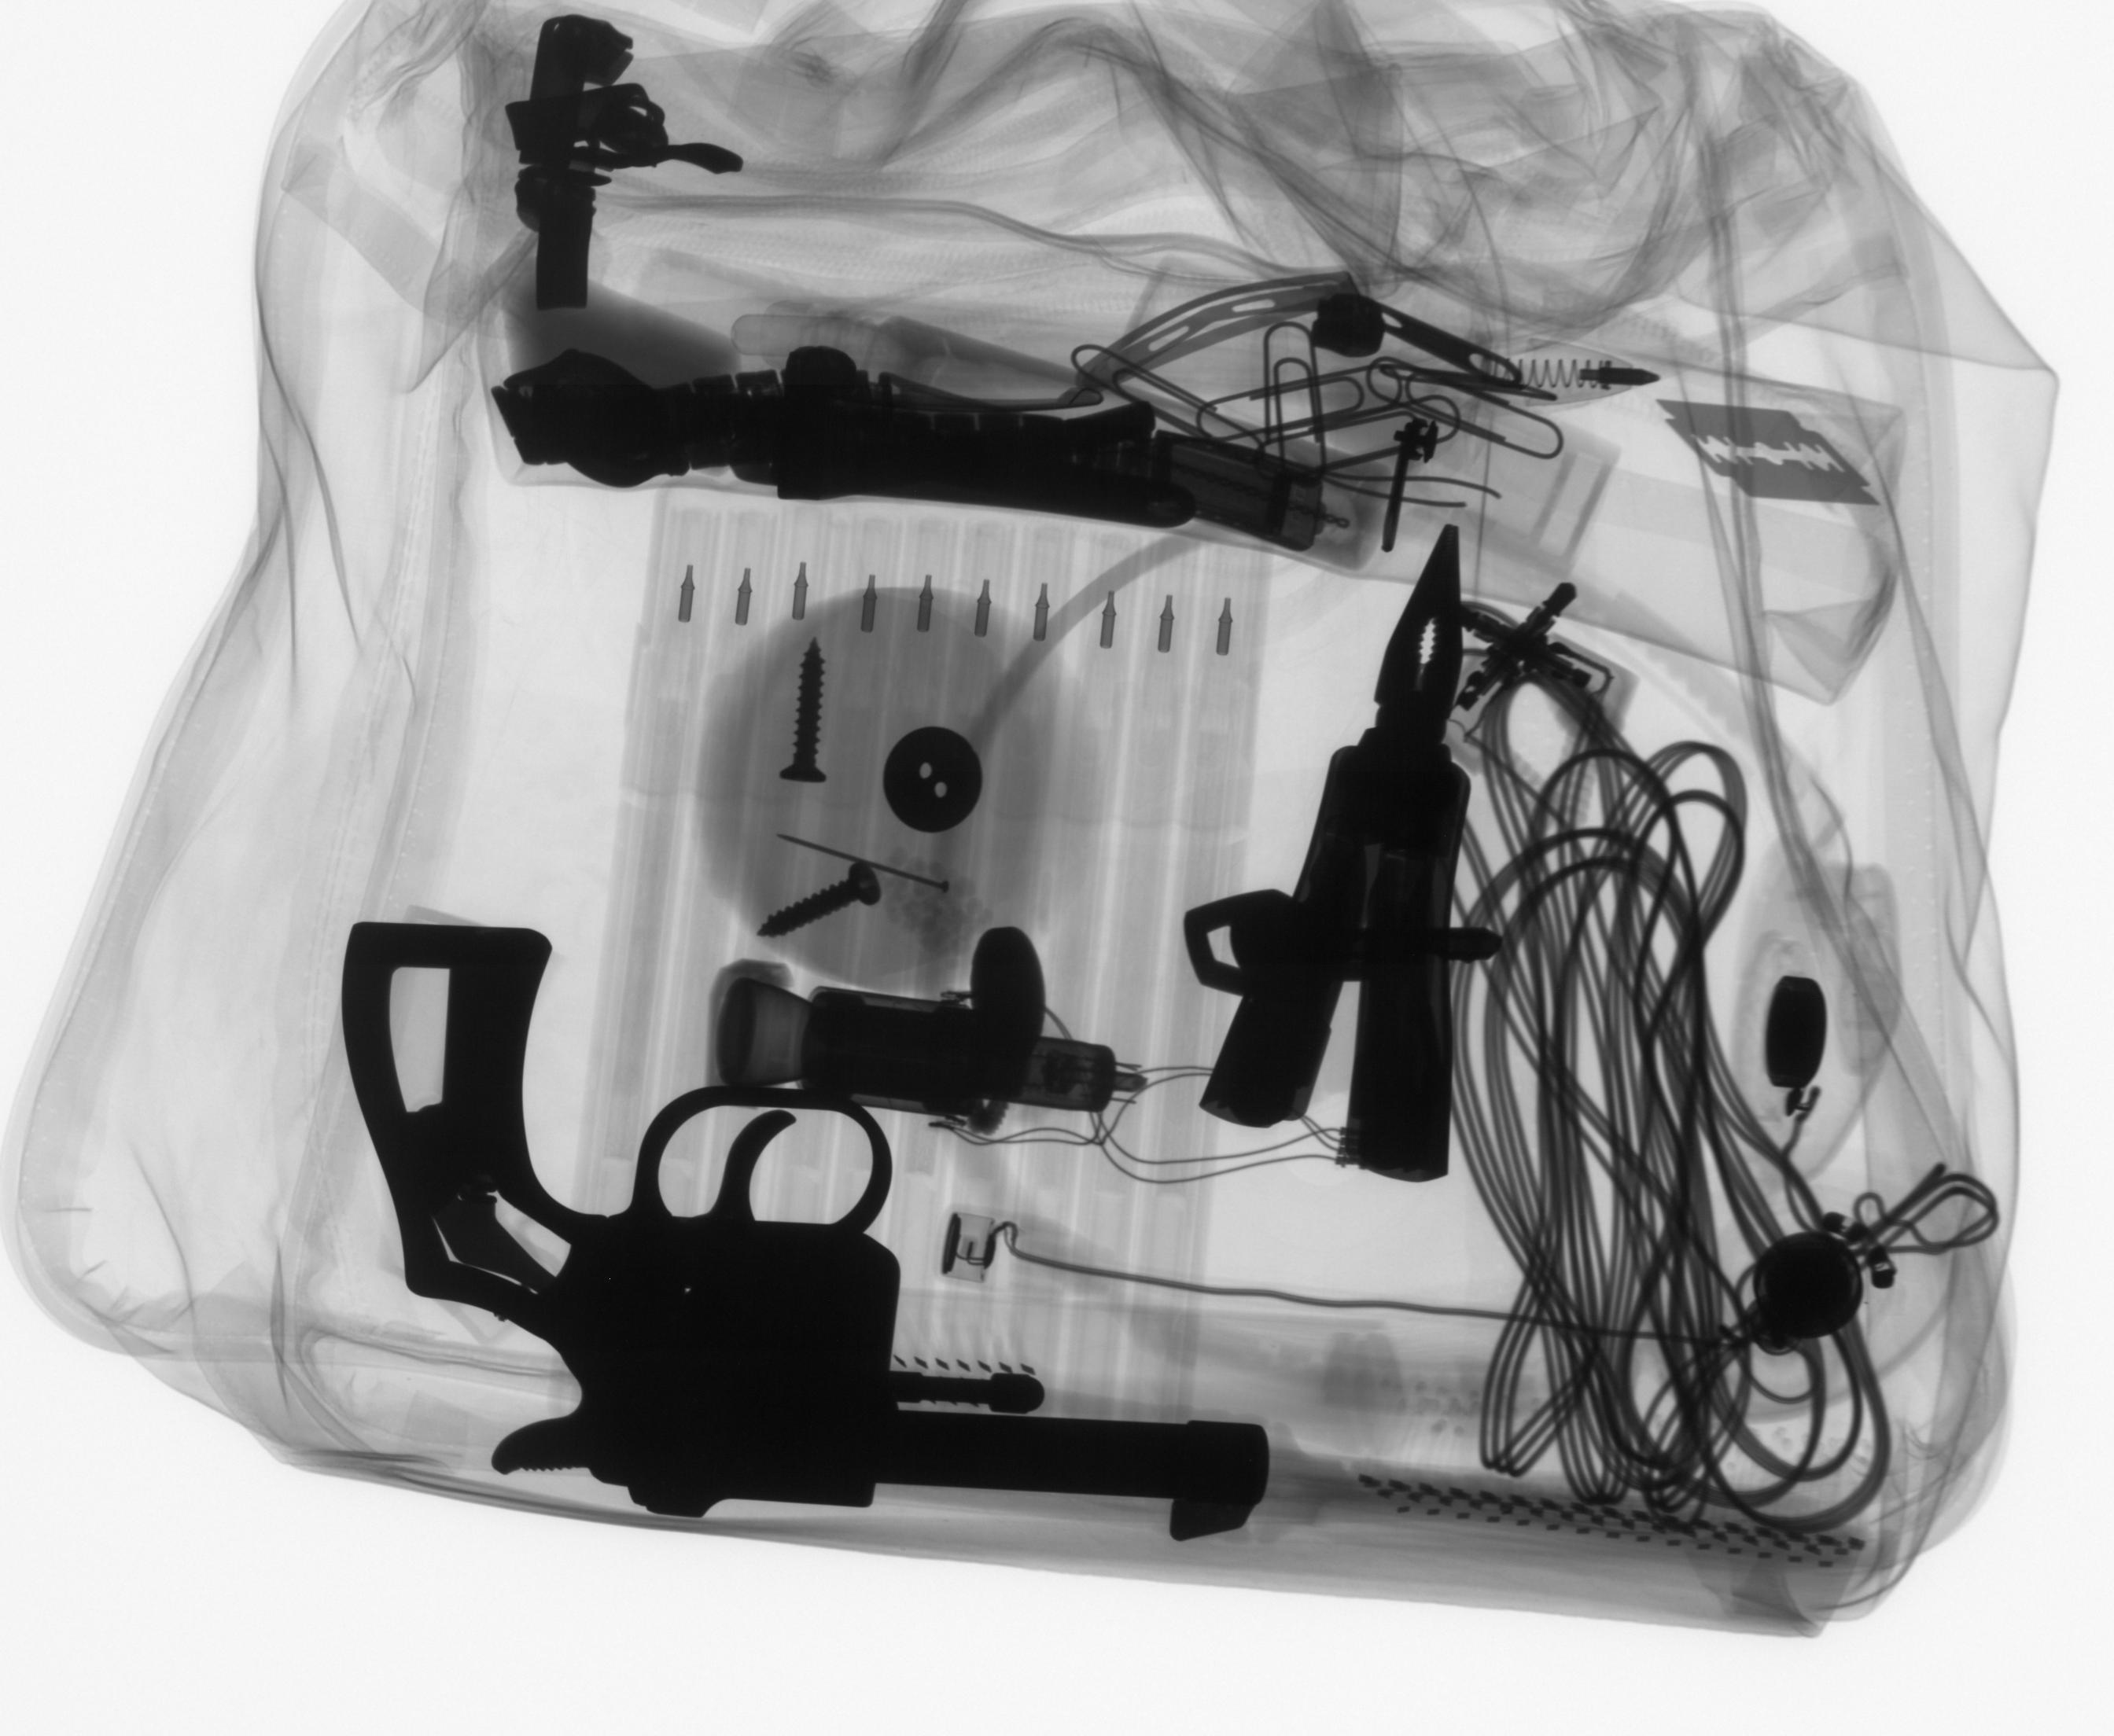Handgun: (320, 904, 1315, 1545)
RazorBlade: (1636, 388, 1905, 530)
